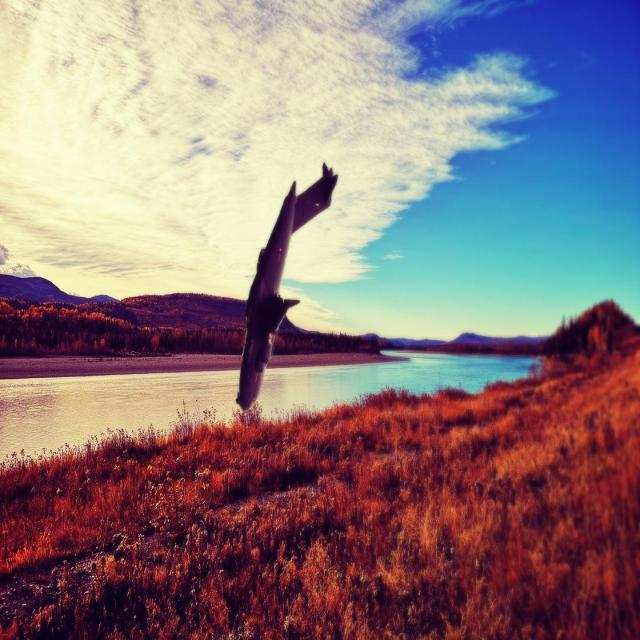airplane: (235, 161, 338, 411)
